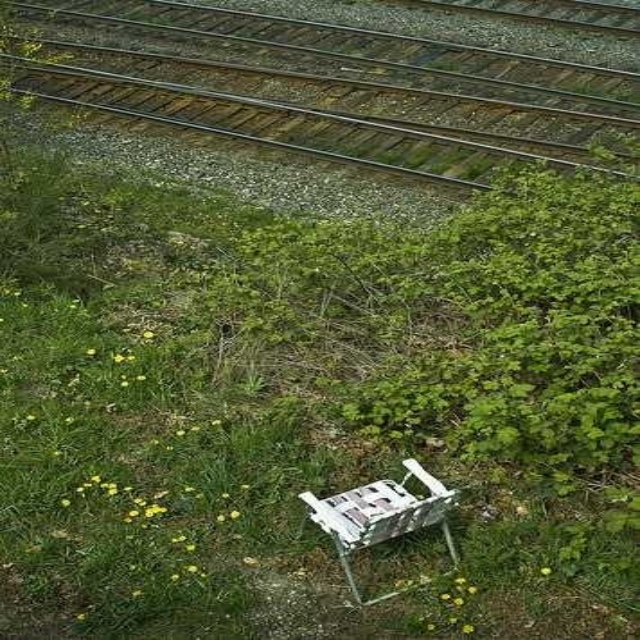obstacle: (298, 458, 457, 604)
